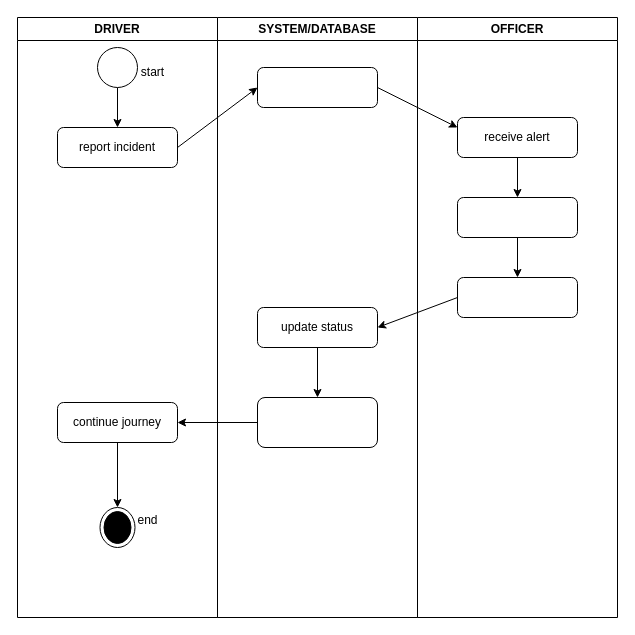
This 635x635 diagram has some shape labels left out. Here are the shapes that lost their labels. From the top down, the centre of each, then its label:
At point (317, 87): "log incident".
At point (517, 217): "view incident details".
At point (517, 297): "coordinate response".
At point (317, 422): "reroute services".
